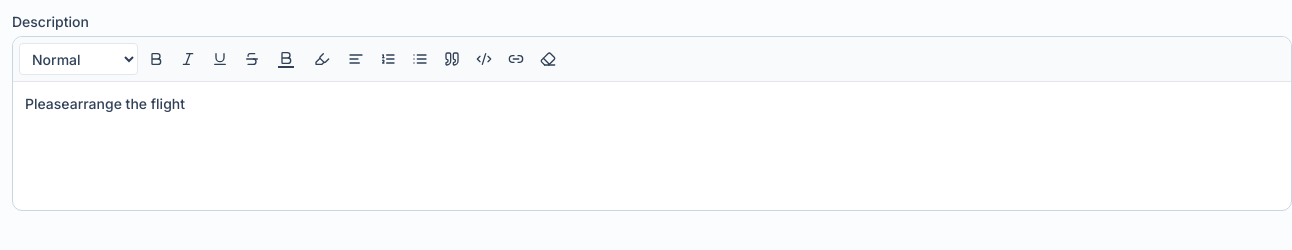
Scenario: masters RichTextEditor (Hotel Description) › types text, inserts a space in the middle, and keeps content order without resetting
Clear the field named "description": (105,104) [25, 95, 185, 112]
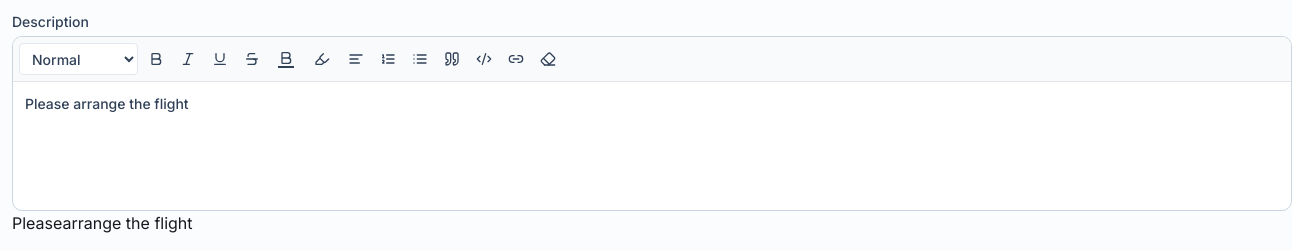
Expected: the text with test id "mirror" reads "Pleasearrange the flight", [12, 213, 193, 233]
Clear the field named "description": (107,104) [25, 95, 189, 112]
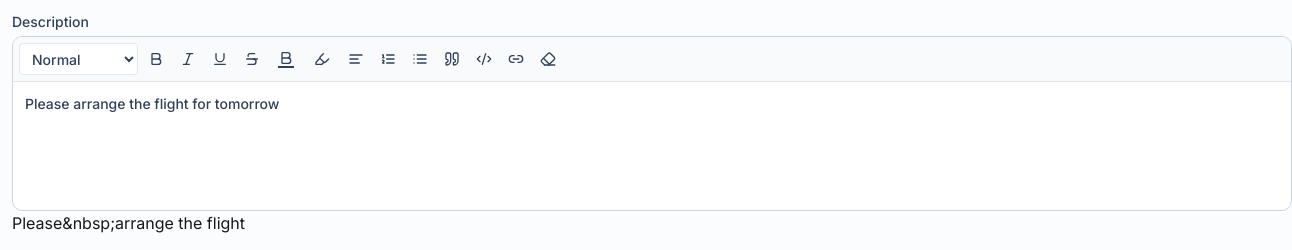
Expected: the text with test id "mirror" reads "Please&nbsp;arrange the flight", [12, 213, 245, 233]
Clear the field named "description": (152,104) [25, 95, 279, 112]
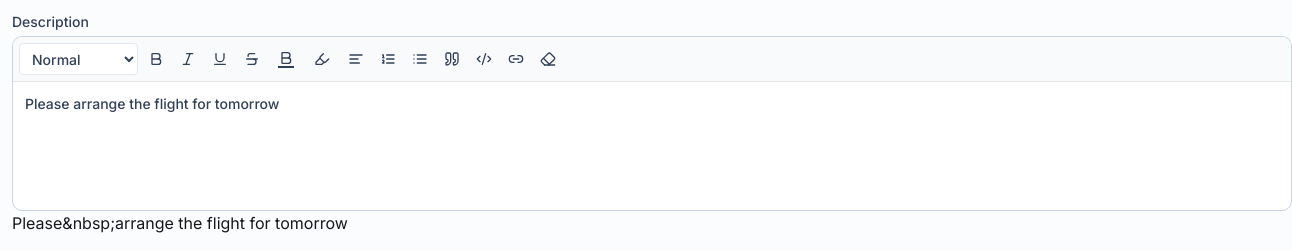
Expected: the text with test id "mirror" reads "Please&nbsp;arrange the flight for tomorrow", [12, 213, 348, 233]
